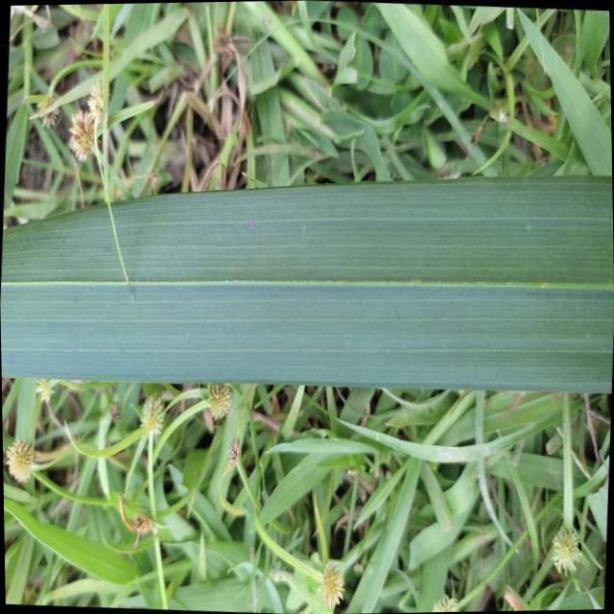Healthy: (0, 173, 614, 393)
